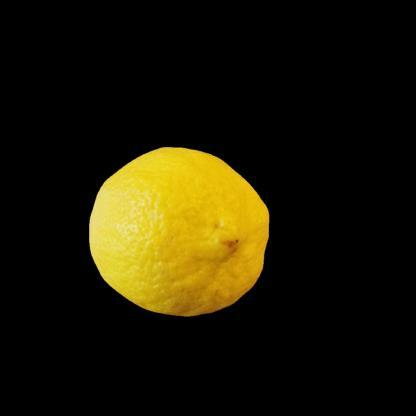lemon: (88, 146, 270, 317)
